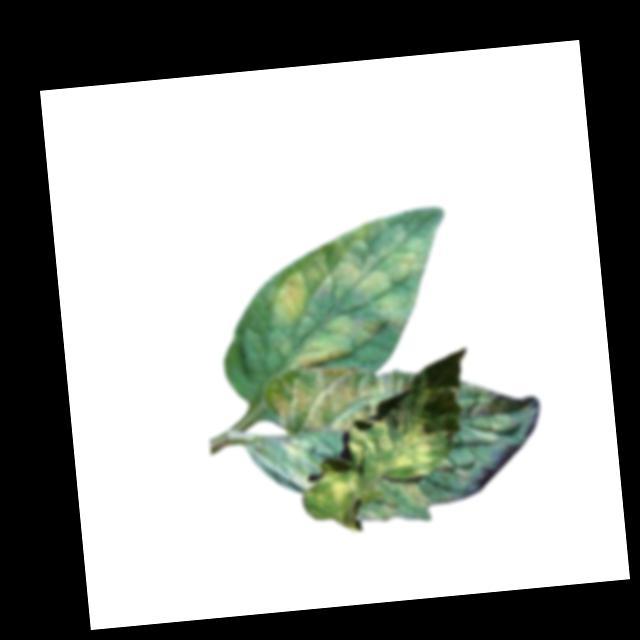Leaf_Mold: (306, 212, 429, 320), (258, 359, 418, 437), (340, 422, 441, 486), (286, 311, 381, 368), (265, 267, 310, 333), (311, 467, 363, 511)
